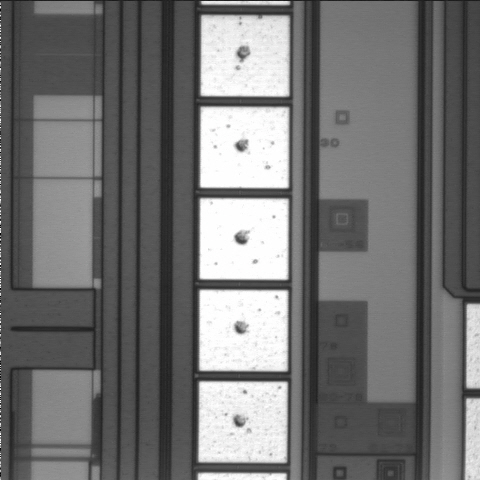pad: (198, 381, 288, 463), (200, 198, 289, 280), (201, 15, 289, 97), (200, 107, 289, 188), (199, 290, 288, 371)
